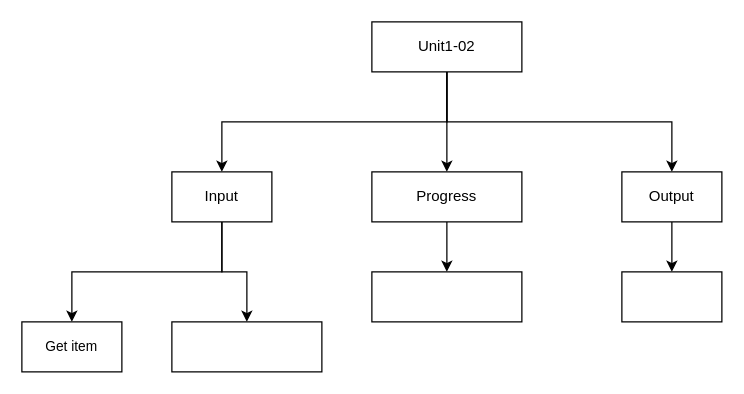
The diagram is 744 pixels wide and 394 high, and some of its shapes have lost their labels. Here are the shapes that lost their labels. From the top down, the box of each, then its label:
(371, 271, 522, 322): Calculate allTime
(621, 271, 722, 322): Print allTime
(171, 321, 322, 372): Get sNumberOfItems
